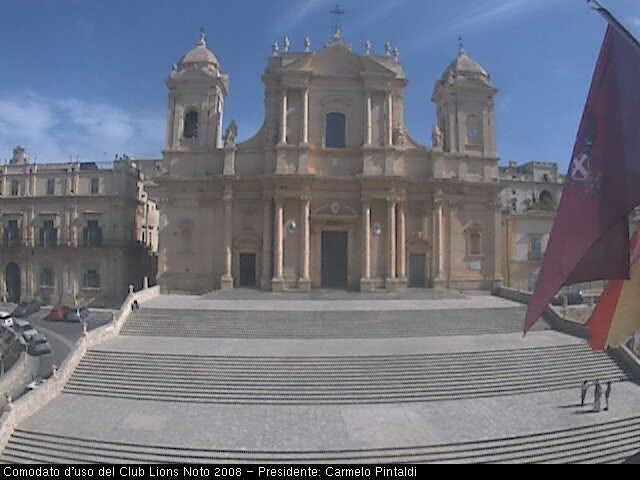person: (592, 384, 601, 414), (580, 379, 589, 408), (603, 380, 611, 411), (594, 378, 601, 408), (131, 300, 140, 313)
